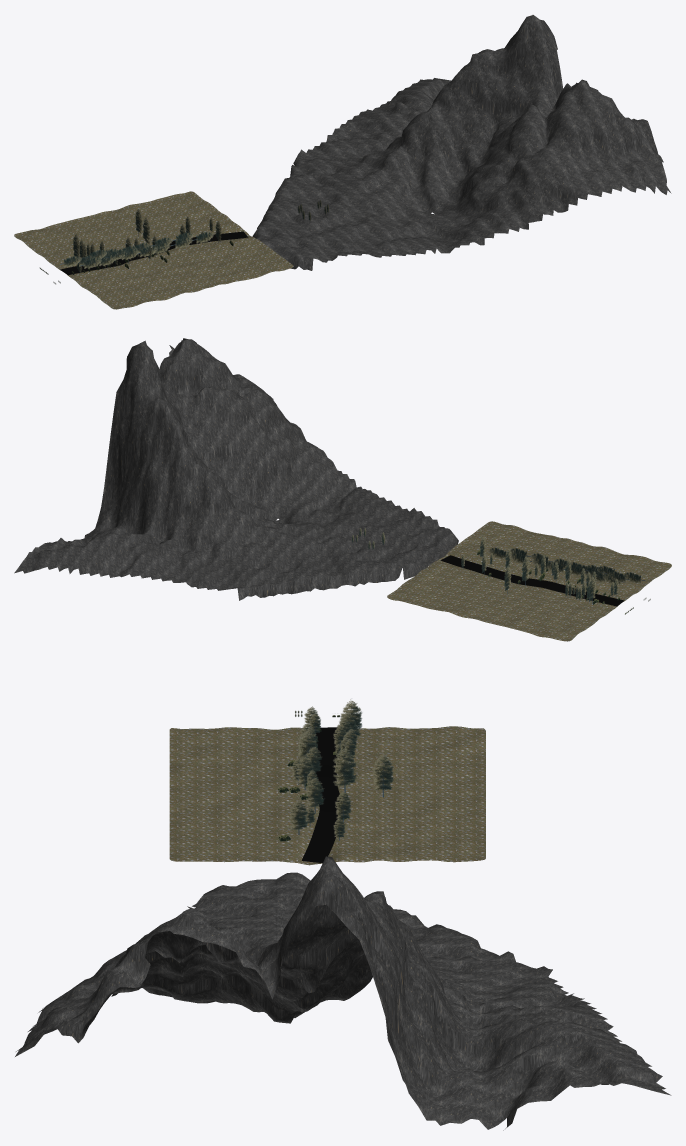
File: forest-road.glb
3 renders of one model, top to bottom at view 1: azimuth 30°, elevation 25°; view 2: azimuth 150°, elevation 25°; view 3: azimuth 270°, elevation 25°, orthographic. The views are drawn at different scales.
Visible parts, largest first — view 1: Landscape, Plane.001, Plane; view 2: Landscape, Plane.001, Plane; view 3: Landscape, Plane.001, Plane, FTD.025.
Part boxes in pixels (bbox=[...]): Landscape: bbox=[252, 15, 671, 270]; Plane.001: bbox=[14, 191, 293, 309]; Plane: bbox=[60, 231, 247, 275]; Landscape: bbox=[14, 338, 458, 600]; Plane.001: bbox=[387, 521, 671, 641]; Plane: bbox=[440, 555, 624, 606]; Landscape: bbox=[15, 856, 671, 1130]; Plane.001: bbox=[169, 726, 485, 865]; Plane: bbox=[302, 727, 342, 862]; FTD.025: bbox=[333, 747, 357, 792].
Size of the model in its own units: 236 by 72.76 by 165.
Materials: 12 (11 with a texture image).
